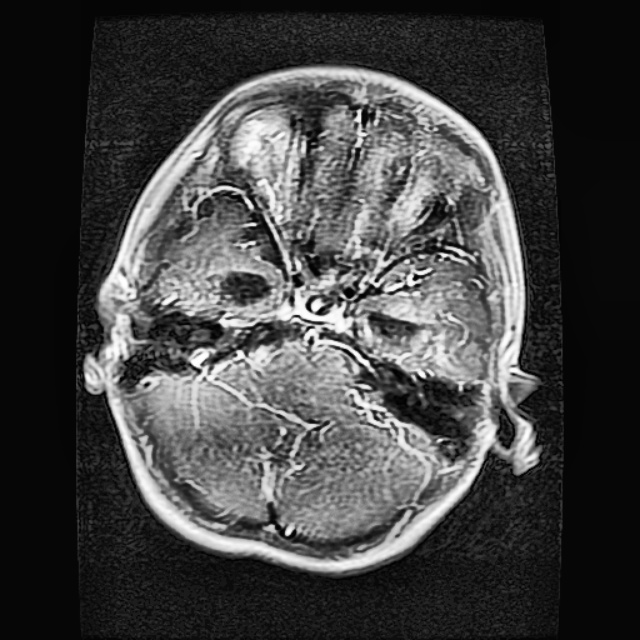Glioma: (219, 268, 272, 302)
